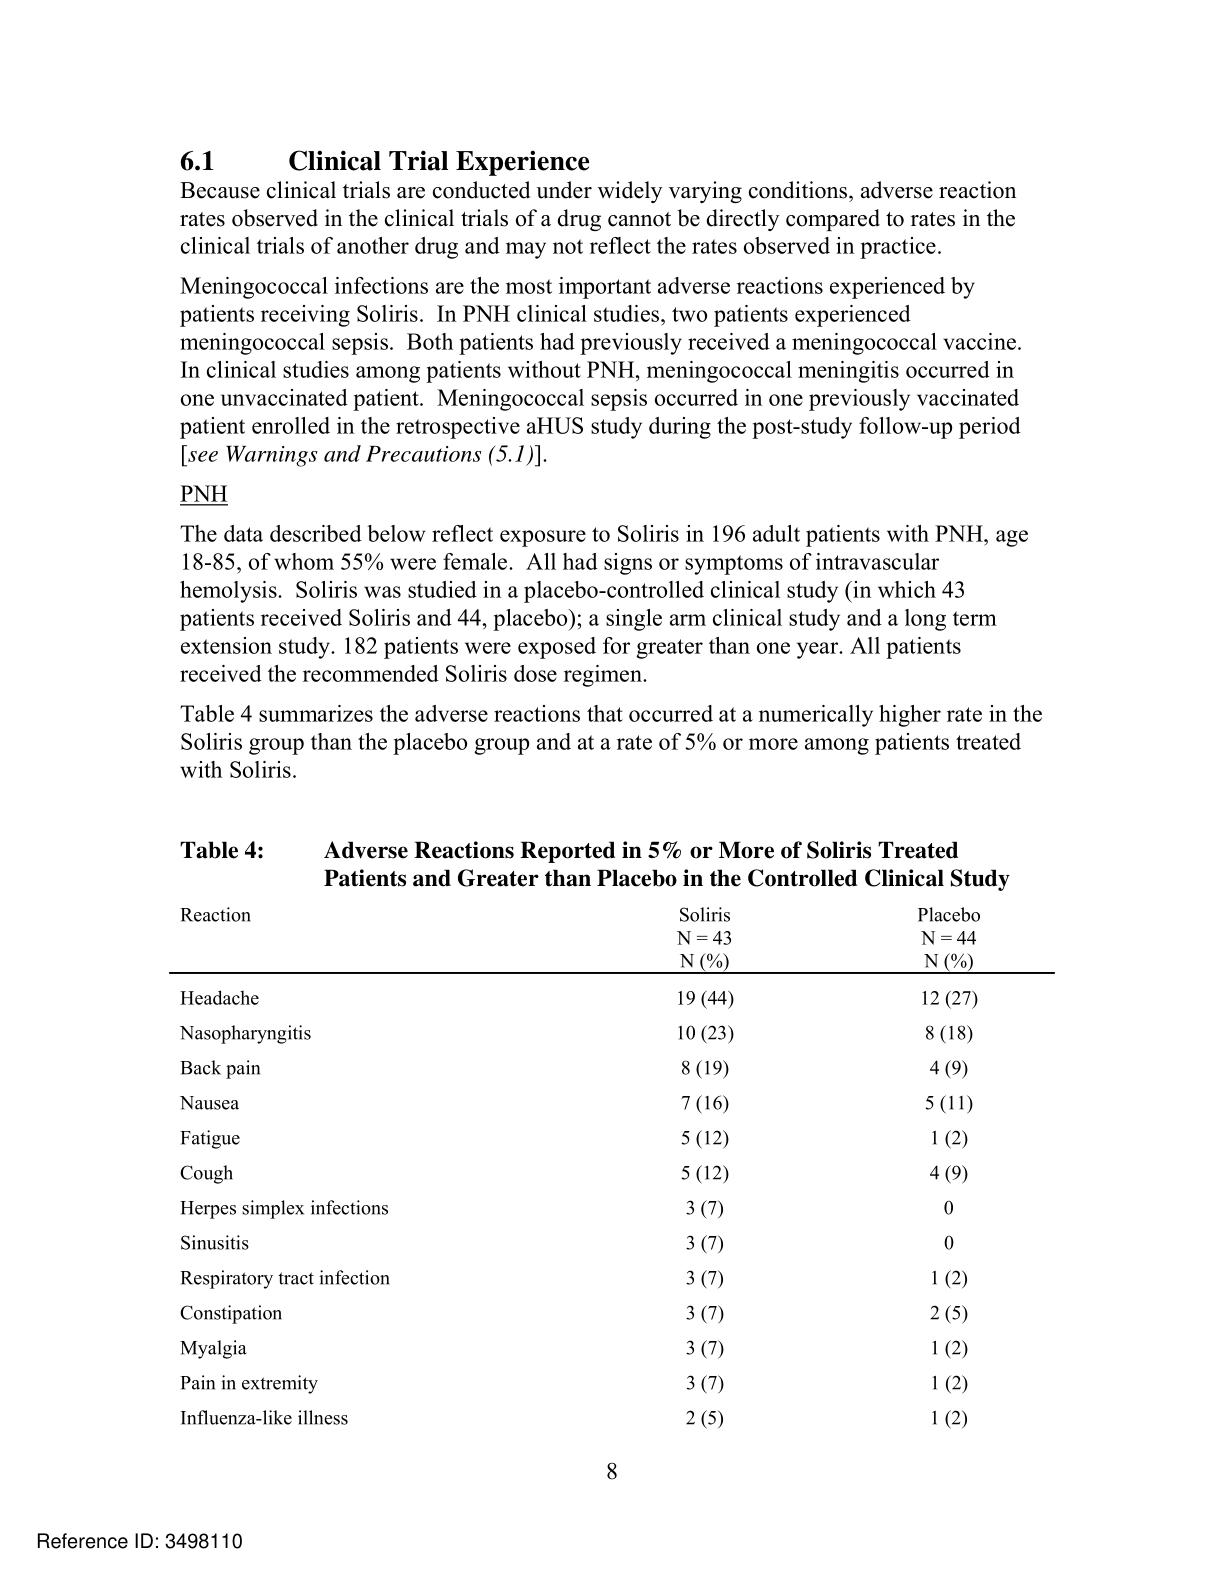partial_lined: (168, 899, 1054, 1432)
